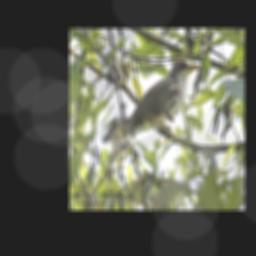Cuckoo: (94, 58, 201, 193)
